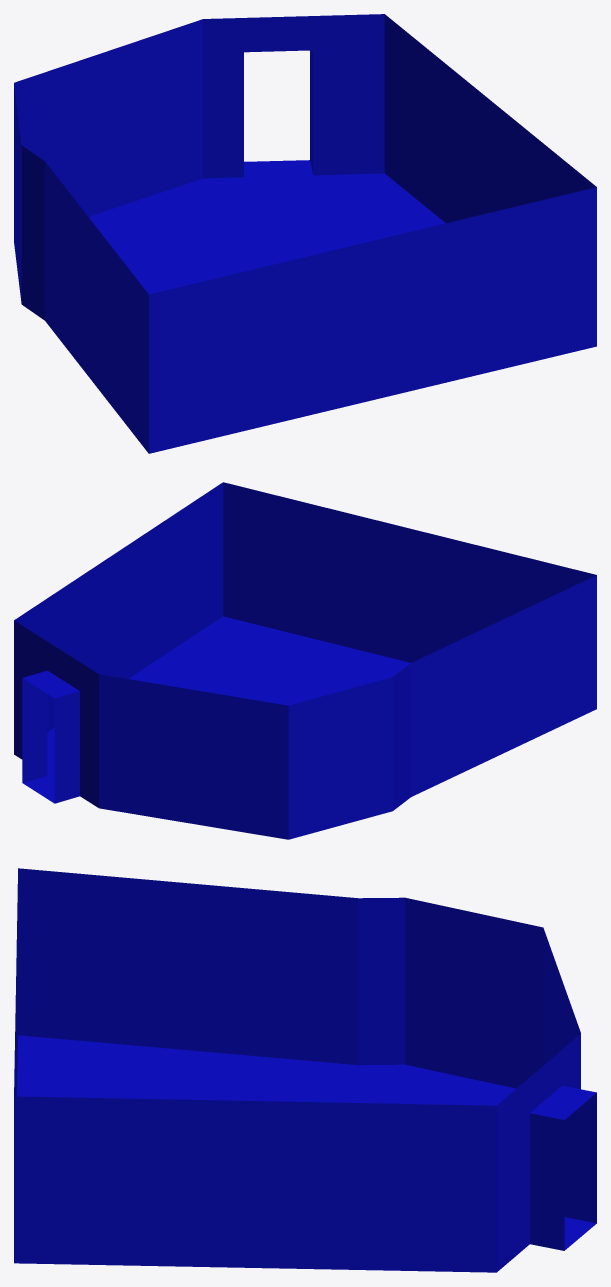
The model's file is room_a.glb.
The picture shows the model from 3 angles, top to bottom: view 1: azimuth 30°, elevation 25°; view 2: azimuth 150°, elevation 25°; view 3: azimuth 270°, elevation 25°; orthographic projection. The views are drawn at different scales.
Parts seen in each view (by area): view 1: room_a.001; view 2: room_a.001; view 3: room_a.001.
Part boxes in pixels (x1,y1,x2,y2): room_a.001: (14,14,596,453); room_a.001: (14,482,596,839); room_a.001: (14,868,596,1272).
Bounding box in the file's own units: 15.43 × 5.06 × 16.01.
Materials: 1 (1 with a texture image).
